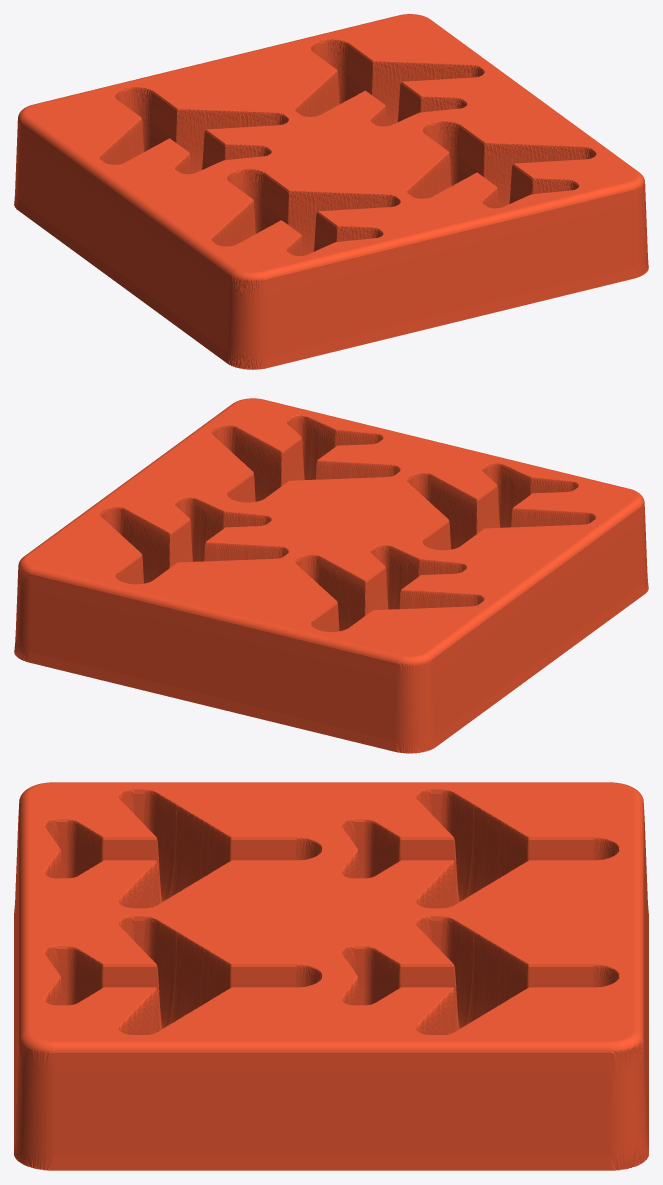
Rendered from mold.glb.
3 renders of one model, top to bottom at view 1: azimuth 30°, elevation 25°; view 2: azimuth 150°, elevation 25°; view 3: azimuth 270°, elevation 25°, orthographic. The views are drawn at different scales.
Visible parts, largest first — view 1: geometry_0; view 2: geometry_0; view 3: geometry_0.
Boxes of the visible parts, x1,y1,x2,y2 form: geometry_0: (14, 14, 648, 369); geometry_0: (14, 398, 648, 753); geometry_0: (14, 782, 648, 1170).
Bounding box in the file's own units: 0.1466 × 0.031 × 0.1452.
